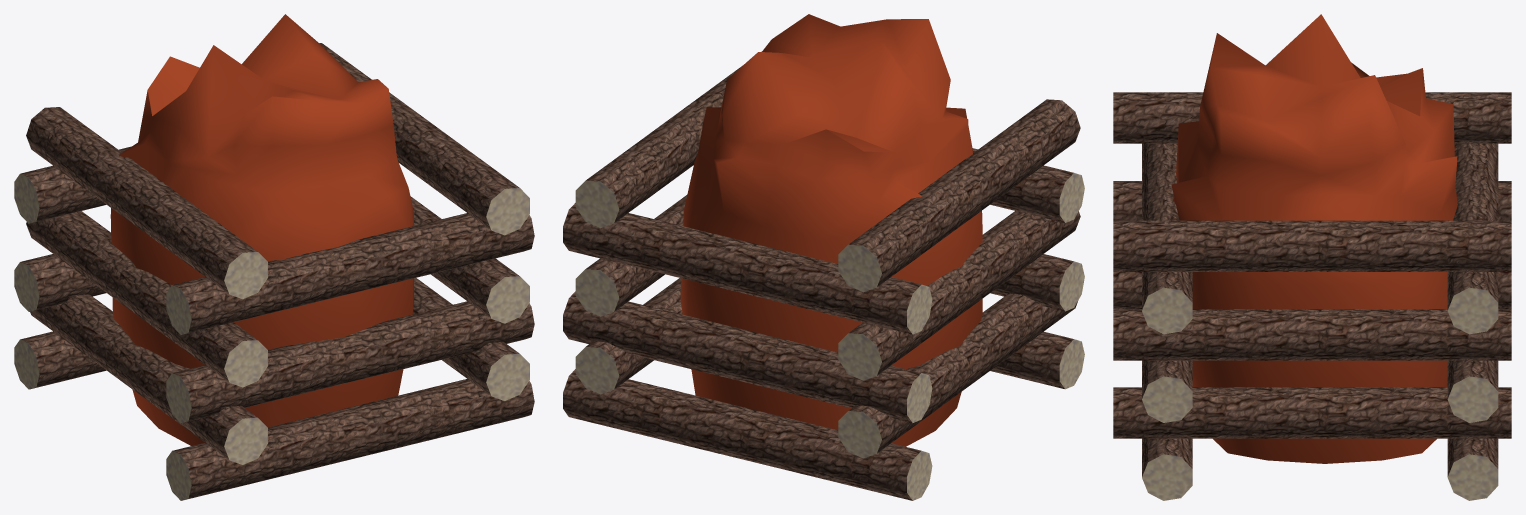
File: campfire_fire.FBX
3 views of the same model, side by side, from view 1: azimuth 30°, elevation 25°; view 2: azimuth 150°, elevation 25°; view 3: azimuth 270°, elevation 25° (orthographic).
Parts seen in each view (by area): view 1: Box001, Cylinder001, Cylinder009, Cylinder005, Cylinder012, Cylinder008, Cylinder004, Cylinder010, Cylinder006, Cylinder002, Cylinder011, Cylinder003 (+1 smaller); view 2: Box001, Cylinder011, Cylinder003, Cylinder007, Cylinder012, Cylinder008, Cylinder004, Cylinder010, Cylinder006, Cylinder009, Cylinder001, Cylinder002 (+1 smaller); view 3: Box001, Cylinder010, Cylinder006, Cylinder002, Cylinder012, Cylinder011, Cylinder009, Cylinder007, Cylinder003, Cylinder005, Cylinder001, Cylinder008 (+1 smaller).
Part boxes in pixels (x1=…): Box001: x1=110, y1=14, x2=413, y2=445; Cylinder001: x1=166, y1=379, x2=534, y2=500; Cylinder009: x1=166, y1=213, x2=534, y2=334; Cylinder005: x1=166, y1=301, x2=534, y2=423; Cylinder012: x1=26, y1=107, x2=267, y2=299; Cylinder008: x1=26, y1=211, x2=267, y2=387; Cylinder004: x1=30, y1=294, x2=267, y2=464; Cylinder010: x1=319, y1=43, x2=529, y2=235; Cylinder006: x1=410, y1=196, x2=529, y2=323; Cylinder002: x1=413, y1=278, x2=529, y2=400; Cylinder011: x1=14, y1=146, x2=130, y2=223; Cylinder003: x1=14, y1=331, x2=106, y2=389; Box001: x1=680, y1=14, x2=982, y2=446; Cylinder011: x1=563, y1=203, x2=932, y2=334; Cylinder003: x1=563, y1=369, x2=932, y2=500; Cylinder007: x1=563, y1=291, x2=932, y2=423; Cylinder012: x1=838, y1=99, x2=1080, y2=292; Cylinder008: x1=838, y1=211, x2=1080, y2=380; Cylinder004: x1=838, y1=293, x2=1077, y2=458; Cylinder010: x1=575, y1=51, x2=761, y2=227; Cylinder006: x1=575, y1=195, x2=687, y2=316; Cylinder009: x1=972, y1=148, x2=1084, y2=222; Cylinder001: x1=990, y1=331, x2=1084, y2=389; Cylinder002: x1=575, y1=278, x2=682, y2=394; Box001: x1=1171, y1=14, x2=1457, y2=463; Cylinder010: x1=1113, y1=220, x2=1511, y2=271; Cylinder006: x1=1113, y1=309, x2=1511, y2=360; Cylinder002: x1=1113, y1=387, x2=1511, y2=438; Cylinder012: x1=1113, y1=92, x2=1511, y2=143; Cylinder011: x1=1447, y1=143, x2=1498, y2=334; Cylinder009: x1=1142, y1=143, x2=1192, y2=334; Cylinder007: x1=1447, y1=360, x2=1498, y2=422; Cylinder003: x1=1447, y1=438, x2=1498, y2=500; Cylinder005: x1=1142, y1=360, x2=1192, y2=422; Cylinder001: x1=1142, y1=438, x2=1192, y2=500; Cylinder008: x1=1113, y1=181, x2=1511, y2=220.
Size of the model in its own units: 50.22 by 52.03 by 50.22.
